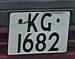1: (15, 33, 24, 55)
2: (47, 31, 61, 53)
6: (22, 32, 35, 54)
8: (35, 32, 48, 53)
G: (39, 12, 54, 33)
K: (26, 12, 40, 34)
